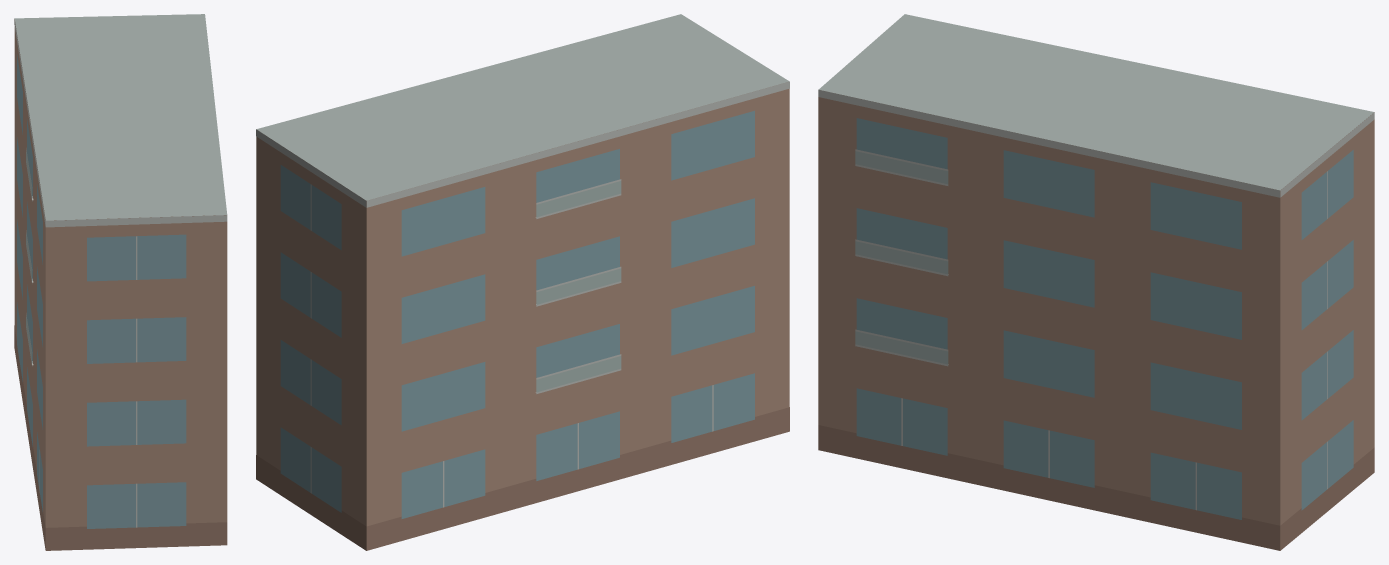
File: survey-upis-32889418.glb
The picture shows the model from 3 angles, left to right: view 1: azimuth 30°, elevation 25°; view 2: azimuth 150°, elevation 25°; view 3: azimuth 270°, elevation 25°; orthographic projection. The views are drawn at different scales.
Visible parts, largest first — view 1: survey-upis-32889418.tmp; view 2: survey-upis-32889418.tmp; view 3: survey-upis-32889418.tmp.
Part boxes in pixels (x1=…): survey-upis-32889418.tmp: x1=14, y1=14, x2=227, y2=550; survey-upis-32889418.tmp: x1=256, y1=14, x2=789, y2=550; survey-upis-32889418.tmp: x1=818, y1=14, x2=1374, y2=550.
Size of the model in its own units: 12.61 by 12 by 16.79.
